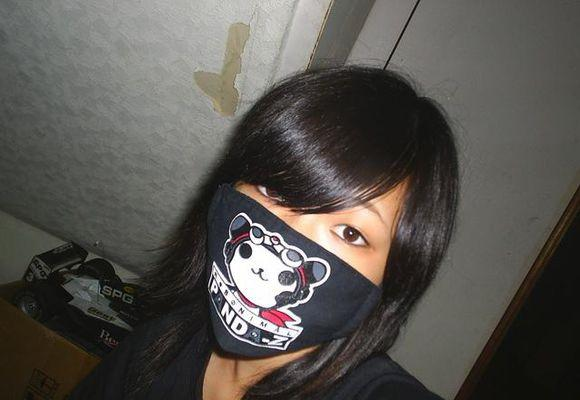OK: (193, 161, 374, 342)
